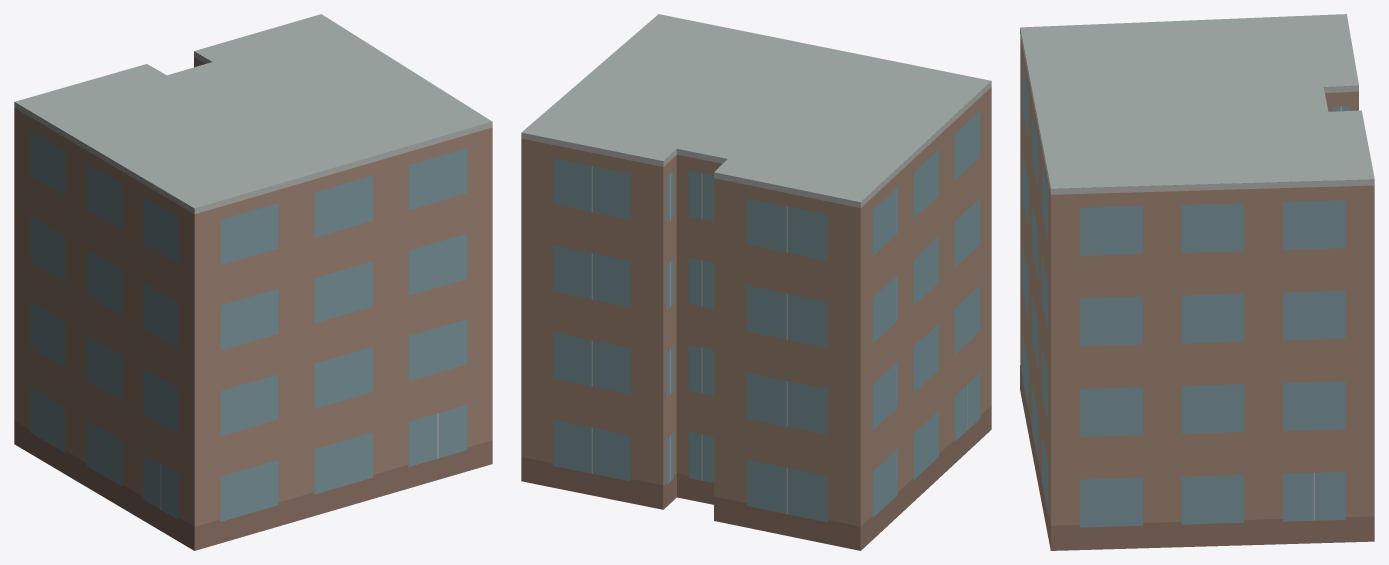
File: survey-upis-32726693.glb
3 views of the same model, side by side, from view 1: azimuth 30°, elevation 25°; view 2: azimuth 150°, elevation 25°; view 3: azimuth 270°, elevation 25° (orthographic). The views are drawn at different scales.
Visible parts, largest first — view 1: survey-upis-32726693.tmp; view 2: survey-upis-32726693.tmp; view 3: survey-upis-32726693.tmp.
Part boxes in pixels (x1=…): survey-upis-32726693.tmp: x1=14, y1=14, x2=492, y2=550; survey-upis-32726693.tmp: x1=521, y1=14, x2=991, y2=550; survey-upis-32726693.tmp: x1=1020, y1=14, x2=1374, y2=550.
Size of the model in its own units: 14.9 by 14.4 by 12.79.
